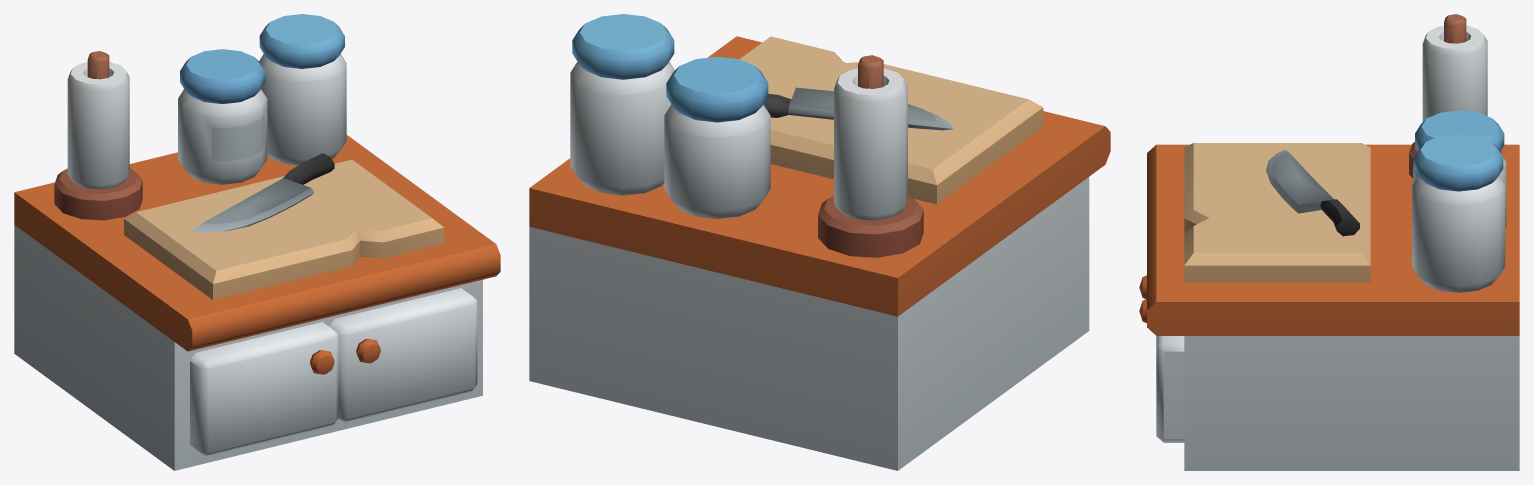
The model's file is kitchencounter_straight_decorated.glb.
3 views of the same model, side by side, from view 1: azimuth 30°, elevation 25°; view 2: azimuth 150°, elevation 25°; view 3: azimuth 270°, elevation 25° (orthographic). The views are drawn at different scales.
Parts seen in each view (by area): view 1: kitchencounter_straight_decorated; view 2: kitchencounter_straight_decorated; view 3: kitchencounter_straight_decorated.
Boxes of the visible parts, bbox=[...] form: kitchencounter_straight_decorated: bbox=[14, 14, 500, 470]; kitchencounter_straight_decorated: bbox=[529, 14, 1110, 470]; kitchencounter_straight_decorated: bbox=[1139, 14, 1519, 470].
Bounding box in the file's own units: 2 × 1.91 × 2.04.
1 material, 1 textured.
